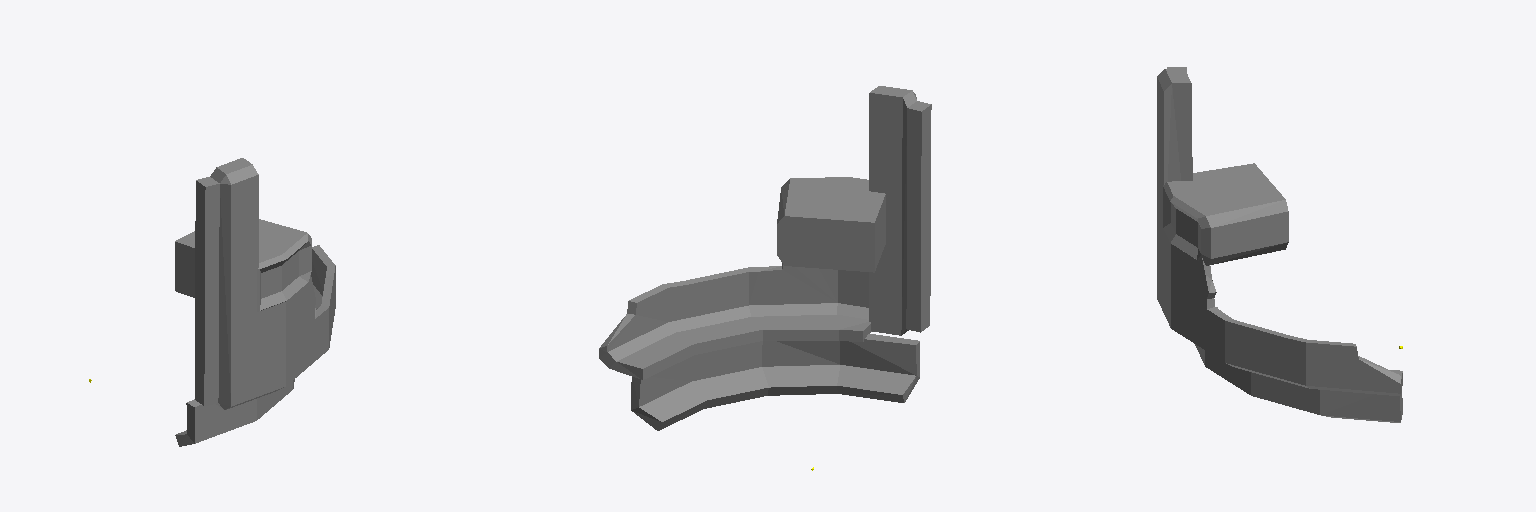
The model's file is cpz_obj_pipelinecapA_brk_007.obj.
3 views of the same model, side by side, from view 1: azimuth 30°, elevation 25°; view 2: azimuth 150°, elevation 25°; view 3: azimuth 270°, elevation 25° (orthographic).
Parts seen in each view (by area): view 1: ccp_metal_yy_floor3_Cmn_dpn, ccp_metal_yy_gray_Cmn_dpn, cpz_metal_st1_floor01_Lumi_dpnE, cpz_yy1_road_cmn_dp, ccp_metal_yy_gray02_Lumin_dpnE; view 2: ccp_metal_yy_gray_Cmn_dpn, ccp_metal_yy_floor3_Cmn_dpn, cpz_metal_st1_floor01_Lumi_dpnE; view 3: ccp_metal_yy_floor3_Cmn_dpn, ccp_metal_yy_gray_Cmn_dpn, cpz_yy1_road_cmn_dp, ccp_metal_yy_gray02_Lumin_dpnE.
Part boxes in pixels (left/top/right/bottom): ccp_metal_yy_floor3_Cmn_dpn: left=210, top=158, right=335, bottom=409; ccp_metal_yy_gray_Cmn_dpn: left=175, top=181, right=335, bottom=446; cpz_metal_st1_floor01_Lumi_dpnE: left=196, top=177, right=219, bottom=406; cpz_yy1_road_cmn_dp: left=260, top=241, right=311, bottom=310; ccp_metal_yy_gray02_Lumin_dpnE: left=261, top=251, right=298, bottom=298; ccp_metal_yy_gray_Cmn_dpn: left=599, top=104, right=931, bottom=430; ccp_metal_yy_floor3_Cmn_dpn: left=607, top=86, right=916, bottom=368; cpz_metal_st1_floor01_Lumi_dpnE: left=906, top=101, right=930, bottom=332; ccp_metal_yy_floor3_Cmn_dpn: left=1157, top=69, right=1402, bottom=395; ccp_metal_yy_gray_Cmn_dpn: left=1163, top=163, right=1402, bottom=422; cpz_yy1_road_cmn_dp: left=1163, top=187, right=1200, bottom=259; ccp_metal_yy_gray02_Lumin_dpnE: left=1171, top=203, right=1197, bottom=247.
Bounding box in the file's own units: 25.39 × 32.28 × 24.88.